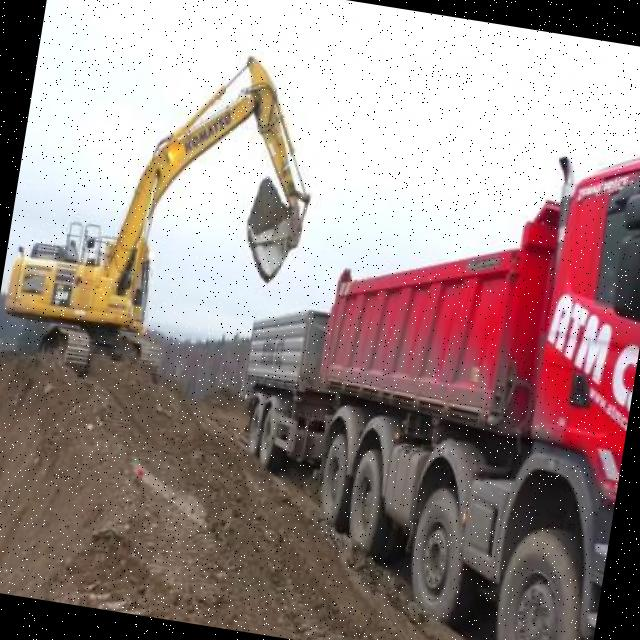Dump Truck: (276, 89, 640, 640), (227, 280, 332, 473)
Excavator: (0, 18, 334, 406)
